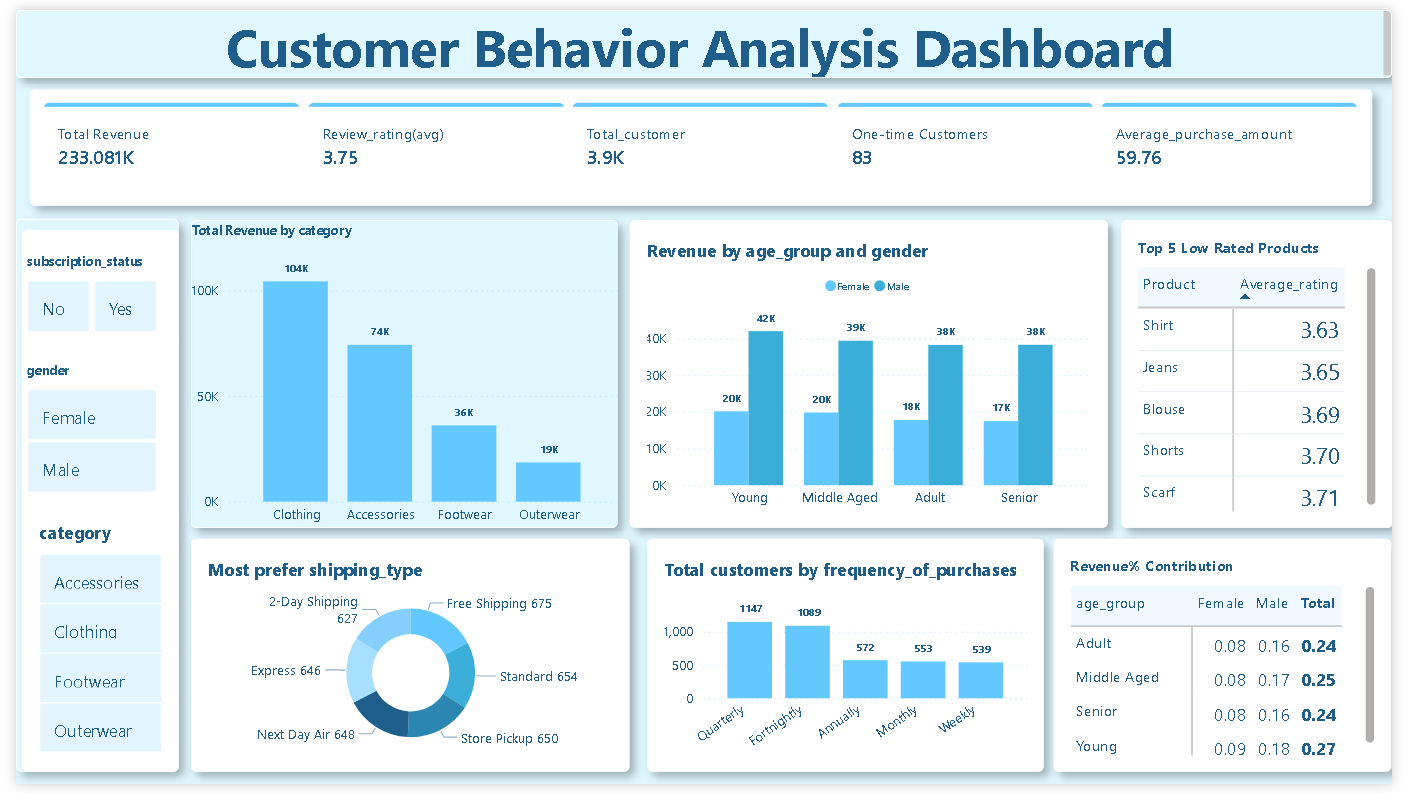

What the dashboard file says about the page in this screenshot:
{"tool":"powerbi","page":{"name":"Customer","canvas":[1280,720],"ordinal":0},"visuals":[{"type":"cardVisual","fields":{"Data":["Sum(customer_data_cleaned.purchase_amount)","Avg(customer_data_cleaned.review_rating)","CountNonNull(customer_data_cleaned.customer_id)","customer_data_cleaned.One-time Customers","Avg(customer_data_cleaned.purchase_amount)"]},"box":[12.3,72.7,1248.7,108.4],"z":0},{"type":"textbox","box":[0,0,1280.3,63.1],"z":1000},{"type":"textbox","box":[0,194.9,150.9,525.6],"z":2000},{"type":"clusteredColumnChart","fields":{"Category":["customer_data_cleaned.category"],"Y":["Sum(customer_data_cleaned.purchase_amount)"]},"box":[163.3,194.9,396.6,286.8],"z":3000},{"type":"clusteredColumnChart","fields":{"Category":["customer_data_cleaned.age_group"],"Y":["Sum(customer_data_cleaned.purchase_amount)"],"Series":["customer_data_cleaned.gender"]},"box":[570.8,194.9,444.6,286.8],"z":4000},{"type":"clusteredColumnChart","fields":{"Category":["customer_data_cleaned.frequency_of_purchases"],"Y":["Count(customer_data_cleaned.customer_id)"]},"box":[587.3,492.6,369.1,227.8],"z":5000},{"type":"donutChart","title":"Most prefer  shipping_type","fields":{"Category":["customer_data_cleaned.shipping_type"],"Y":["CountNonNull(customer_data_cleaned.customer_id)"]},"box":[163.3,492.6,407.5,227.8],"z":6000},{"type":"pivotTable","title":"Top 5 Low Rated Products","fields":{"Rows":["customer_data_cleaned.item_purchased"],"Values":["Avg(customer_data_cleaned.review_rating)"]},"box":[1027.8,194.9,252.5,286.8],"z":7000},{"type":"pivotTable","title":"Revenue% Contribution","fields":{"Rows":["customer_data_cleaned.age_group"],"Columns":["customer_data_cleaned.gender"],"Values":["customer_data_cleaned.Revenue % of Total"]},"box":[966,492.6,314.2,225],"z":8000},{"type":"advancedSlicerVisual","fields":{"Values":["customer_data_cleaned.subscription_status"]},"box":[5.5,204.5,145.5,115.3],"z":9000},{"type":"advancedSlicerVisual","fields":{"Values":["customer_data_cleaned.gender"]},"box":[5.5,306,145.5,164.7],"z":10000},{"type":"advancedSlicerVisual","fields":{"Values":["customer_data_cleaned.category"]},"box":[5.5,458.3,145.5,259.3],"z":11000}]}

Visuals, with their boxes in screenshot pixels (x1, y1, x2, y2), scaled from the page's 1280x720 canvas onto the 1409x793 screenshot:
cardVisual - Sum(customer_data_cleaned.purchase_amount) x Avg(customer_data_cleaned.review_rating): x1=14 y1=80 x2=1388 y2=199
textbox: x1=0 y1=0 x2=1408 y2=69
textbox: x1=0 y1=215 x2=166 y2=792
clusteredColumnChart - customer_data_cleaned.category x Sum(customer_data_cleaned.purchase_amount): x1=180 y1=215 x2=616 y2=531
clusteredColumnChart - customer_data_cleaned.age_group x Sum(customer_data_cleaned.purchase_amount): x1=628 y1=215 x2=1118 y2=531
clusteredColumnChart - customer_data_cleaned.frequency_of_purchases x Count(customer_data_cleaned.customer_id): x1=646 y1=543 x2=1053 y2=792
"Most prefer  shipping_type" donutChart: x1=180 y1=543 x2=628 y2=792
"Top 5 Low Rated Products" pivotTable: x1=1131 y1=215 x2=1408 y2=531
"Revenue% Contribution" pivotTable: x1=1063 y1=543 x2=1408 y2=790
advancedSlicerVisual - customer_data_cleaned.subscription_status: x1=6 y1=225 x2=166 y2=352
advancedSlicerVisual - customer_data_cleaned.gender: x1=6 y1=337 x2=166 y2=518
advancedSlicerVisual - customer_data_cleaned.category: x1=6 y1=505 x2=166 y2=790
